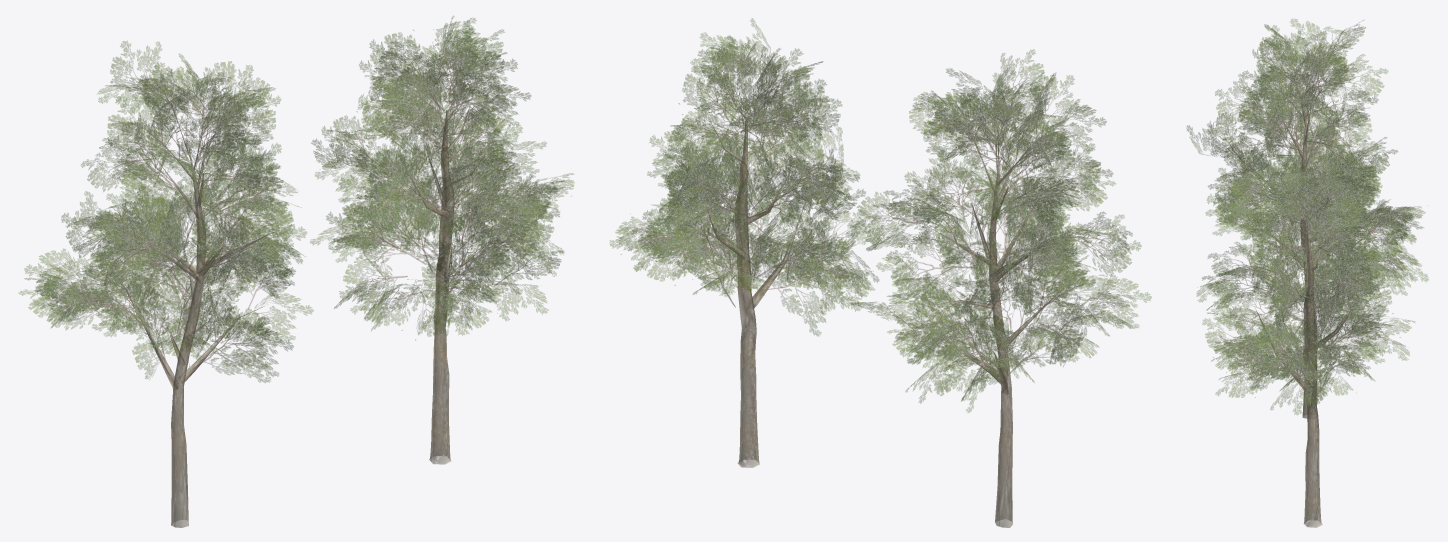
File: nature.glb
3 views of the same model, side by side, from view 1: azimuth 30°, elevation 25°; view 2: azimuth 150°, elevation 25°; view 3: azimuth 270°, elevation 25° (orthographic). The views are drawn at different scales.
Parts seen in each view (by area): view 1: Tree 1, Tree 2; view 2: Tree 1, Tree 2; view 3: Tree 2, Tree 1.
Boxes of the visible parts, x1,y1,x2,y2 form: Tree 1: (18, 41, 313, 527); Tree 2: (310, 16, 574, 464); Tree 1: (845, 49, 1151, 527); Tree 2: (610, 18, 880, 467); Tree 2: (1197, 152, 1417, 527); Tree 1: (1187, 18, 1428, 418).
Size of the model in its own units: 10.73 by 8.99 by 5.22.
Materials: 1 (1 with a texture image).
